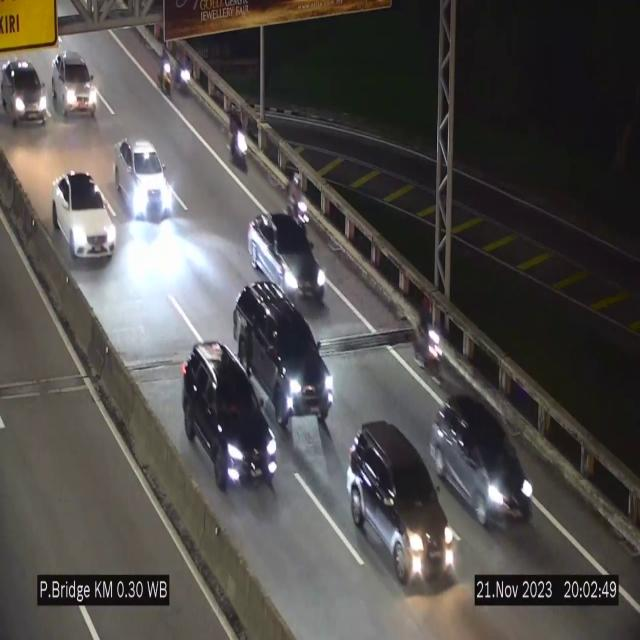Car: (343, 414, 460, 590), (173, 341, 283, 487), (230, 278, 336, 423), (430, 392, 536, 526), (245, 206, 327, 310), (53, 173, 115, 259), (114, 138, 174, 220), (51, 45, 100, 129), (0, 58, 49, 130)
Motorcycle: (411, 292, 444, 386), (283, 166, 315, 234), (227, 102, 250, 177), (175, 40, 192, 98), (156, 40, 172, 97)
